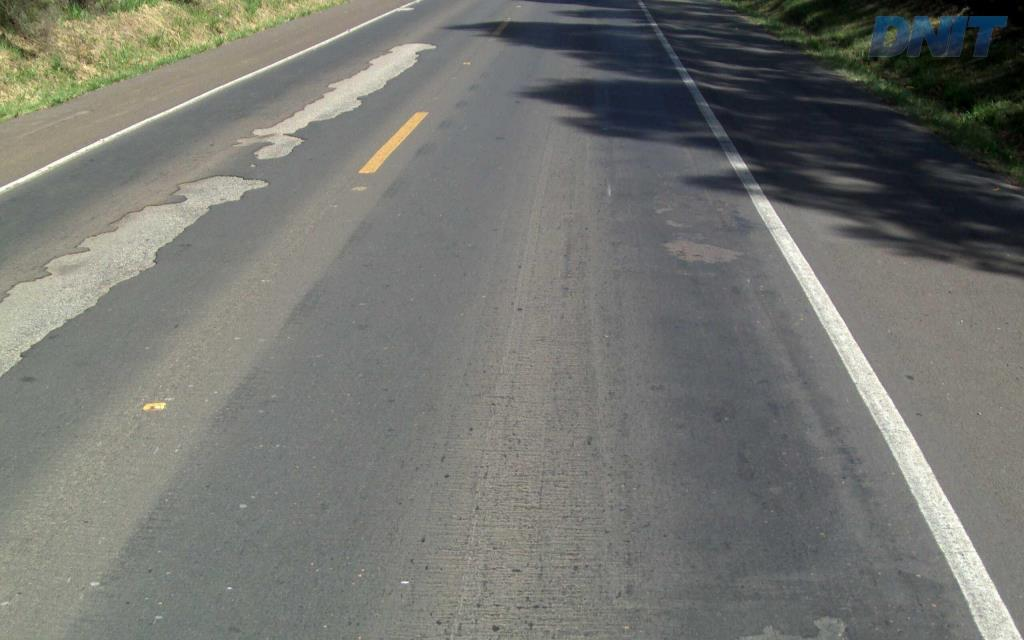pothole: (744, 610, 857, 638), (658, 232, 749, 266)
